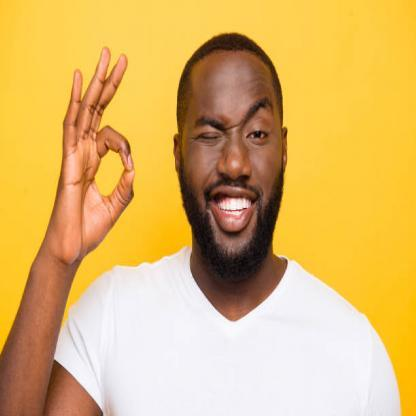ok: (52, 42, 136, 258)
